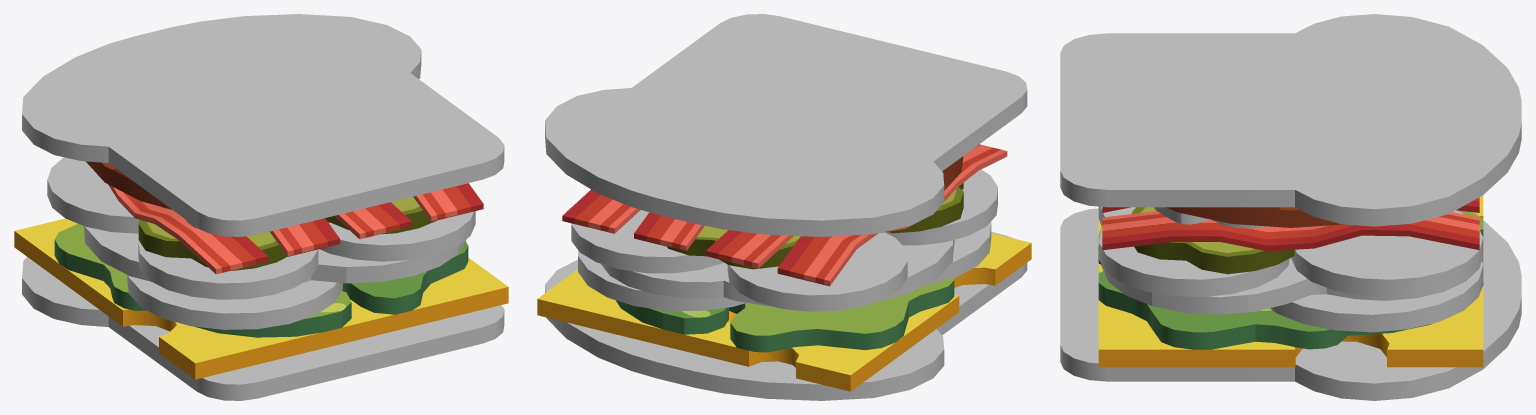
Rendered from sandwhich.fbx.
3 views of the same model, side by side, from view 1: azimuth 30°, elevation 25°; view 2: azimuth 150°, elevation 25°; view 3: azimuth 270°, elevation 25° (orthographic). The views are drawn at different scales.
Parts seen in each view (by area): view 1: Sandwhich.050; view 2: Sandwhich.050; view 3: Sandwhich.050.
Part boxes in pixels (<box>): Sandwhich.050: <box>14,14,508,400</box>; Sandwhich.050: <box>537,14,1031,400</box>; Sandwhich.050: <box>1060,14,1521,400</box>.
Size of the model in its own units: 13.29 by 6.09 by 13.28.
